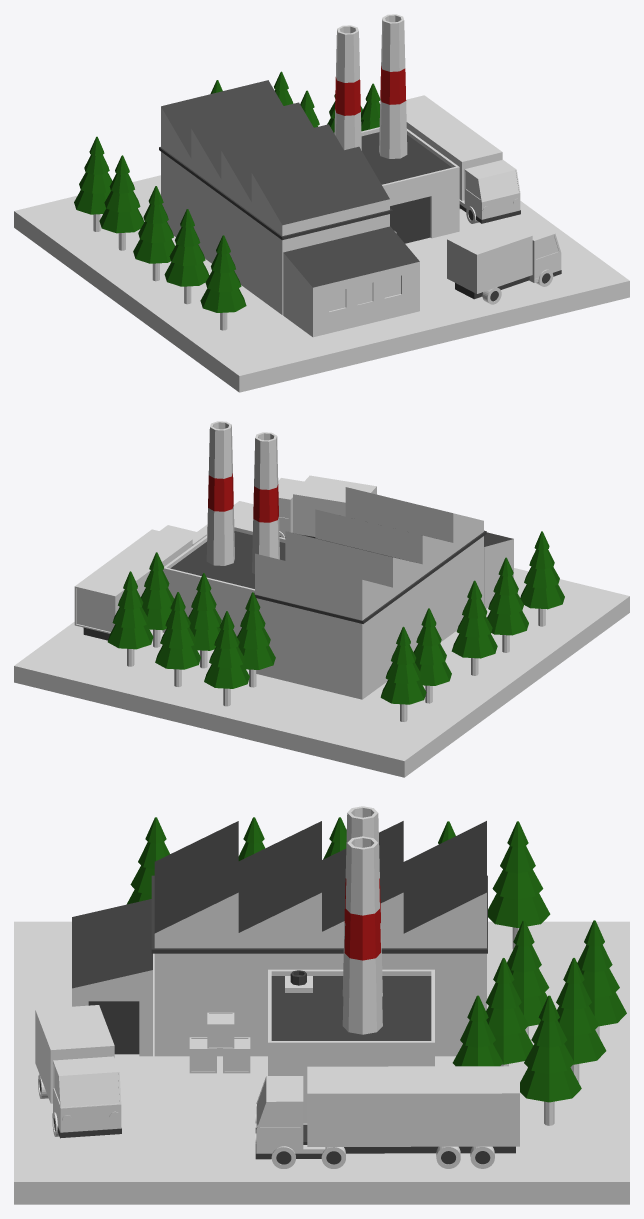
The model's file is factory.fbx.
3 views of the same model, one above another, from view 1: azimuth 30°, elevation 25°; view 2: azimuth 150°, elevation 25°; view 3: azimuth 270°, elevation 25° (orthographic). The views are drawn at different scales.
Visible parts, largest first — view 1: Cylinder.006, Cube, Cube.042, Cube.006, Cylinder.001, Cylinder.030, Cylinder.022, Cylinder.023, Cylinder.031, Cylinder.020; view 2: Cylinder.006, Cube, Cube.006, Cube.042, Cylinder.010, Cylinder.023, Cylinder.035, Cylinder.031, Cylinder.011, Cylinder.001, Cylinder.022, Cylinder.009 (+3 smaller); view 3: Cylinder.006, Cube, Cube.006, Cube.042, Cylinder.035, Cylinder.031, Cylinder.011, Cylinder.019, Cylinder.010, Cylinder.009, Cylinder.020, Cylinder.001 (+4 smaller).
Boxes of the visible parts, x1=… form: Cylinder.006: x1=159, y1=14, x2=459, y2=337; Cube: x1=14, y1=175, x2=629, y2=392; Cube.042: x1=447, y1=219, x2=561, y2=304; Cube.006: x1=406, y1=95, x2=520, y2=223; Cylinder.001: x1=200, y1=235, x2=246, y2=330; Cylinder.030: x1=99, y1=155, x2=144, y2=250; Cylinder.022: x1=164, y1=209, x2=209, y2=304; Cylinder.023: x1=133, y1=186, x2=174, y2=281; Cylinder.031: x1=74, y1=136, x2=112, y2=231; Cylinder.020: x1=361, y1=83, x2=380, y2=131; Cylinder.006: x1=162, y1=421, x2=513, y2=699; Cube: x1=14, y1=501, x2=629, y2=777; Cube.006: x1=74, y1=525, x2=206, y2=640; Cube.042: x1=278, y1=475, x2=376, y2=537; Cylinder.010: x1=204, y1=611, x2=249, y2=706; Cylinder.023: x1=451, y1=580, x2=497, y2=675; Cylinder.035: x1=107, y1=571, x2=153, y2=666; Cylinder.031: x1=380, y1=626, x2=426, y2=721; Cylinder.011: x1=155, y1=592, x2=200, y2=686; Cylinder.001: x1=520, y1=531, x2=564, y2=626; Cylinder.022: x1=487, y1=557, x2=528, y2=652; Cylinder.009: x1=237, y1=592, x2=275, y2=687; Cylinder.006: x1=72, y1=806, x2=487, y2=1123; Cube: x1=14, y1=921, x2=629, y2=1204; Cube.006: x1=255, y1=1066, x2=519, y2=1168; Cube.042: x1=35, y1=1005, x2=121, y2=1138; Cylinder.035: x1=520, y1=995, x2=581, y2=1125; Cylinder.031: x1=488, y1=821, x2=550, y2=949; Cylinder.011: x1=556, y1=958, x2=606, y2=1083; Cylinder.019: x1=486, y1=958, x2=533, y2=1066; Cylinder.010: x1=577, y1=920, x2=626, y2=1037; Cylinder.009: x1=507, y1=920, x2=549, y2=1036; Cylinder.020: x1=452, y1=995, x2=502, y2=1066; Cylinder.001: x1=126, y1=817, x2=169, y2=904.
Size of the model in its own units: 1818 by 942 by 1818.
